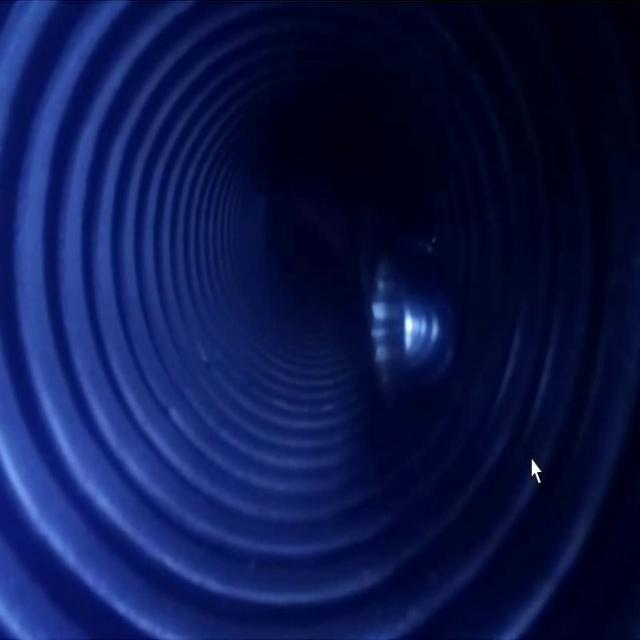metal piece: (364, 237, 463, 405)
